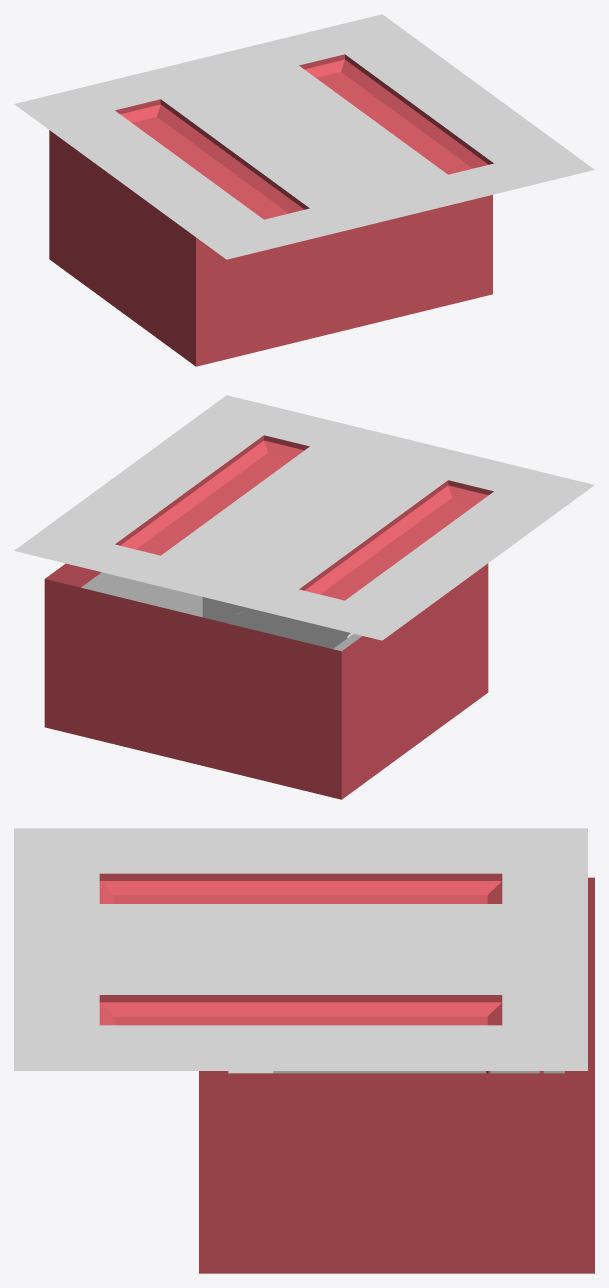
Rendered from env.fbx.
3 renders of one model, top to bottom at view 1: azimuth 30°, elevation 25°; view 2: azimuth 150°, elevation 25°; view 3: azimuth 270°, elevation 25°, orthographic. The views are drawn at different scales.
Parts seen in each view (by area): view 1: Cieling, Floor; view 2: Cieling, Floor; view 3: Cieling, Floor.
Boxes of the visible parts, left/top/right/bottom form: Cieling: left=14, top=14, right=594, bottom=259; Floor: left=49, top=130, right=492, bottom=366; Cieling: left=14, top=395, right=594, bottom=640; Floor: left=44, top=563, right=488, bottom=799; Cieling: left=14, top=828, right=587, bottom=1070; Floor: left=199, top=877, right=594, bottom=1273.
Bounding box in the file's own units: 23.2 × 10.02 × 23.48.
